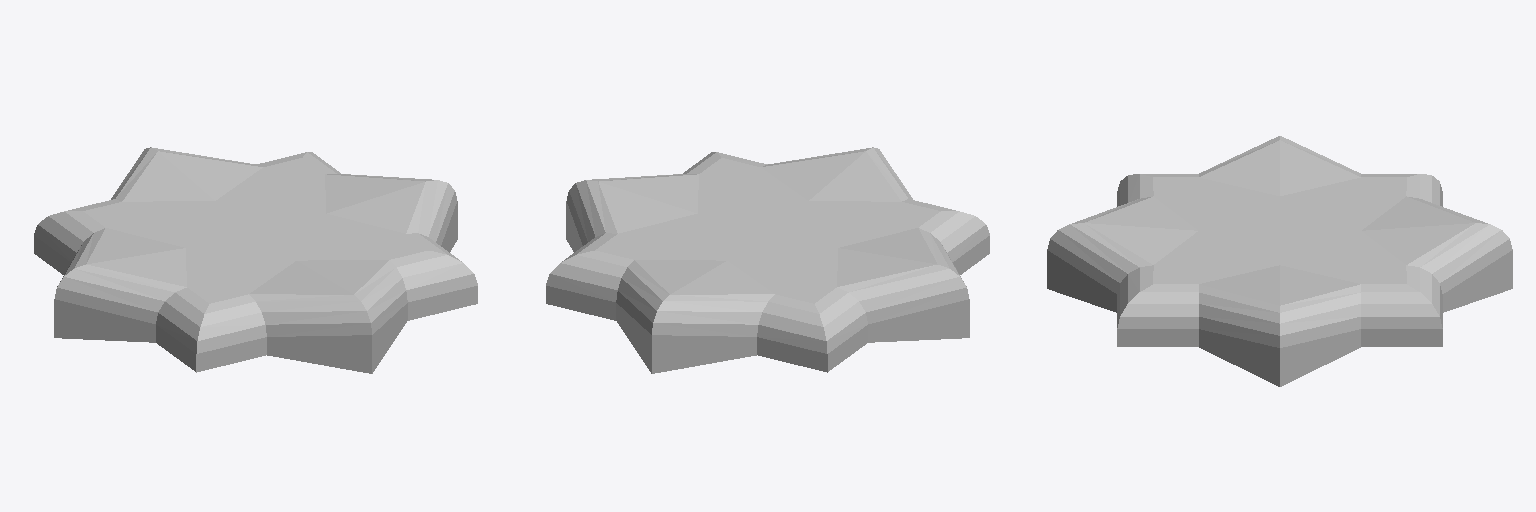
Rendered from TileUpgrade.obj.
3 views of the same model, side by side, from view 1: azimuth 30°, elevation 25°; view 2: azimuth 150°, elevation 25°; view 3: azimuth 270°, elevation 25° (orthographic).
Parts seen in each view (by area): view 1: Cube.001; view 2: Cube.001; view 3: Cube.001.
Part boxes in pixels (bbox=[...]): Cube.001: bbox=[34, 147, 477, 373]; Cube.001: bbox=[546, 147, 989, 373]; Cube.001: bbox=[1047, 136, 1512, 386].
Size of the model in its own units: 2.38 by 0.3729 by 2.38.